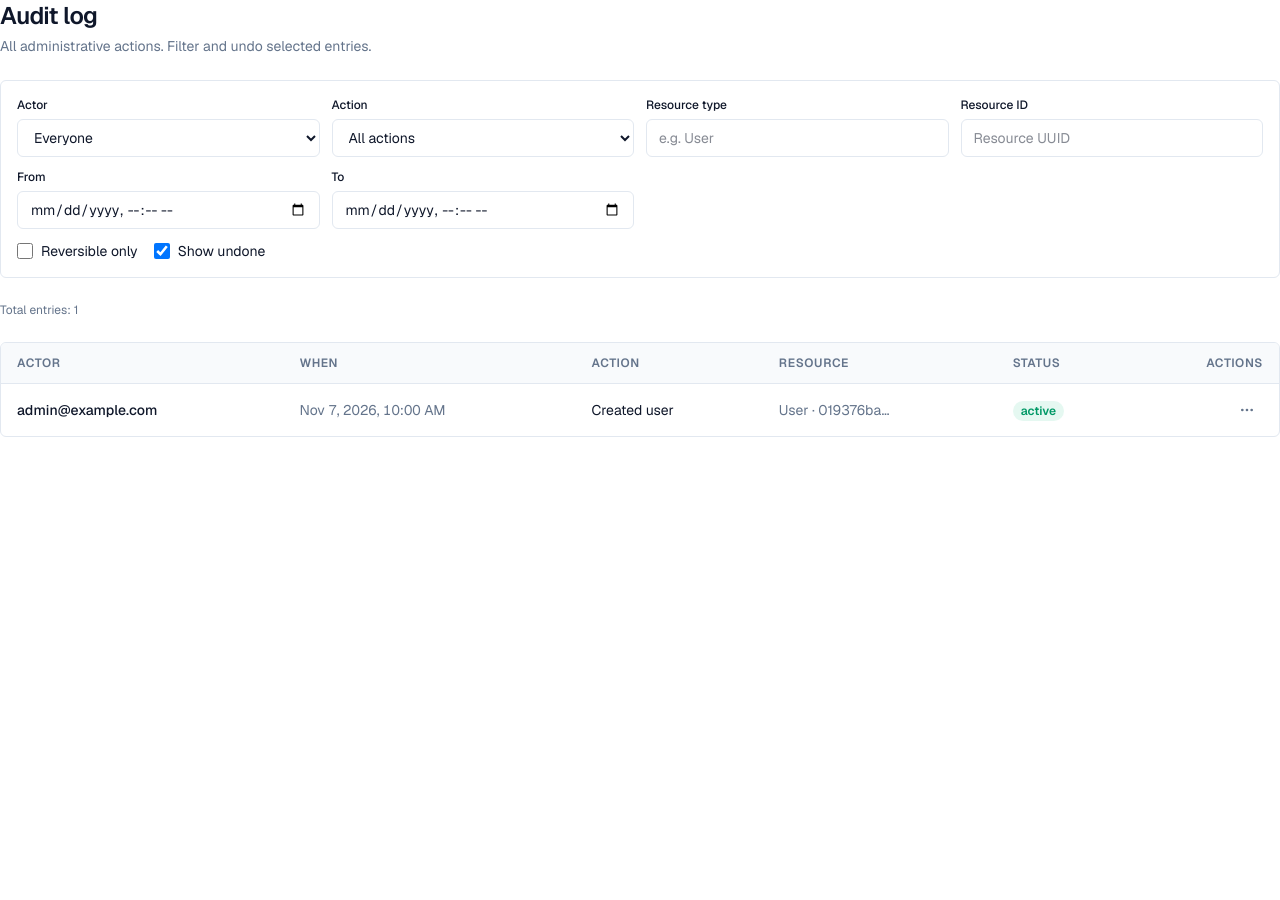
Test case: AdminAuditPage › should POST the undo endpoint on confirm, close the dialog and refetch the list
This screenshot has width=1280, height=900.
Click the button named "row actions" at (1247, 410), box [1231,396,1263,424]
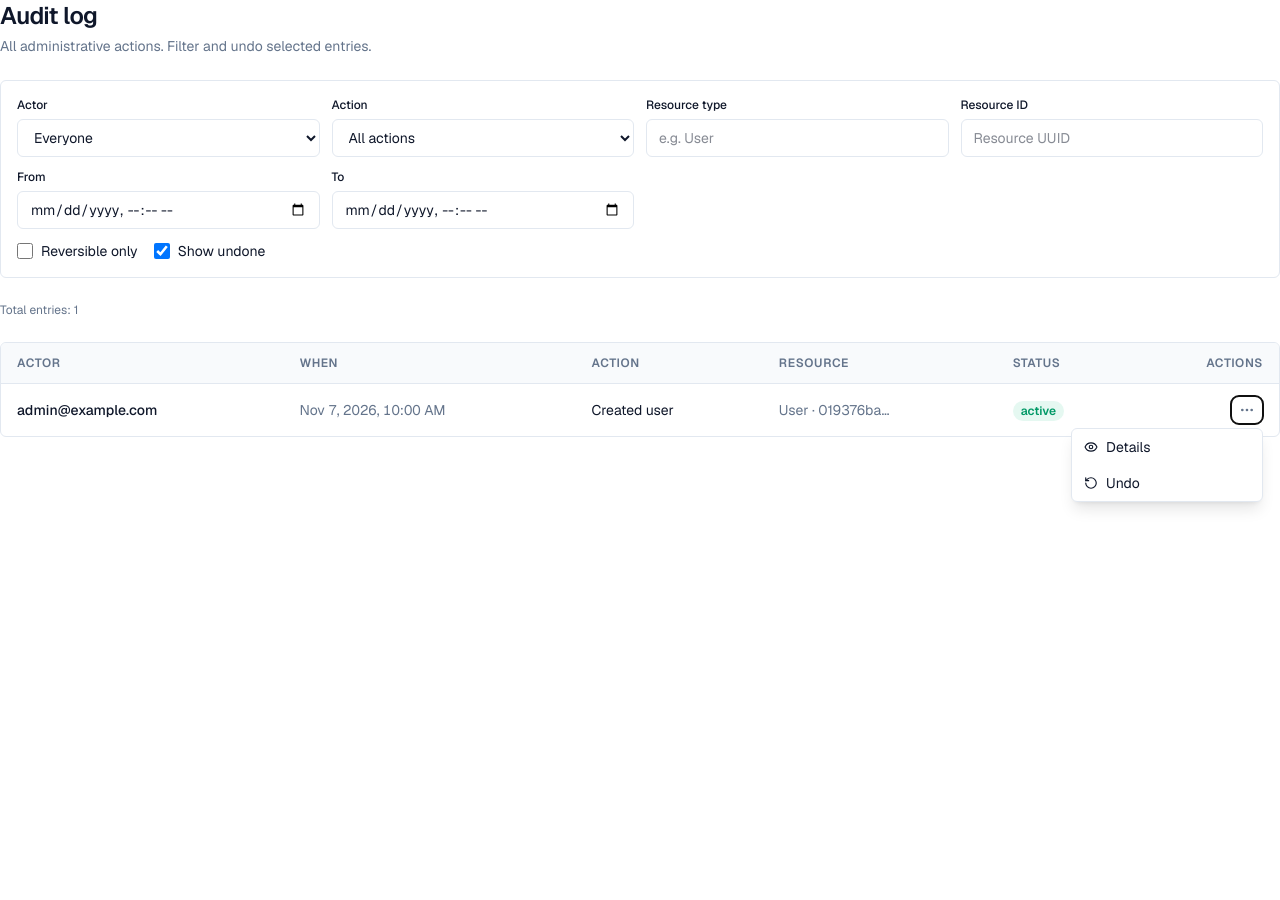
Click the menu item "Undo" at (1167, 483), box [1072,465,1262,501]
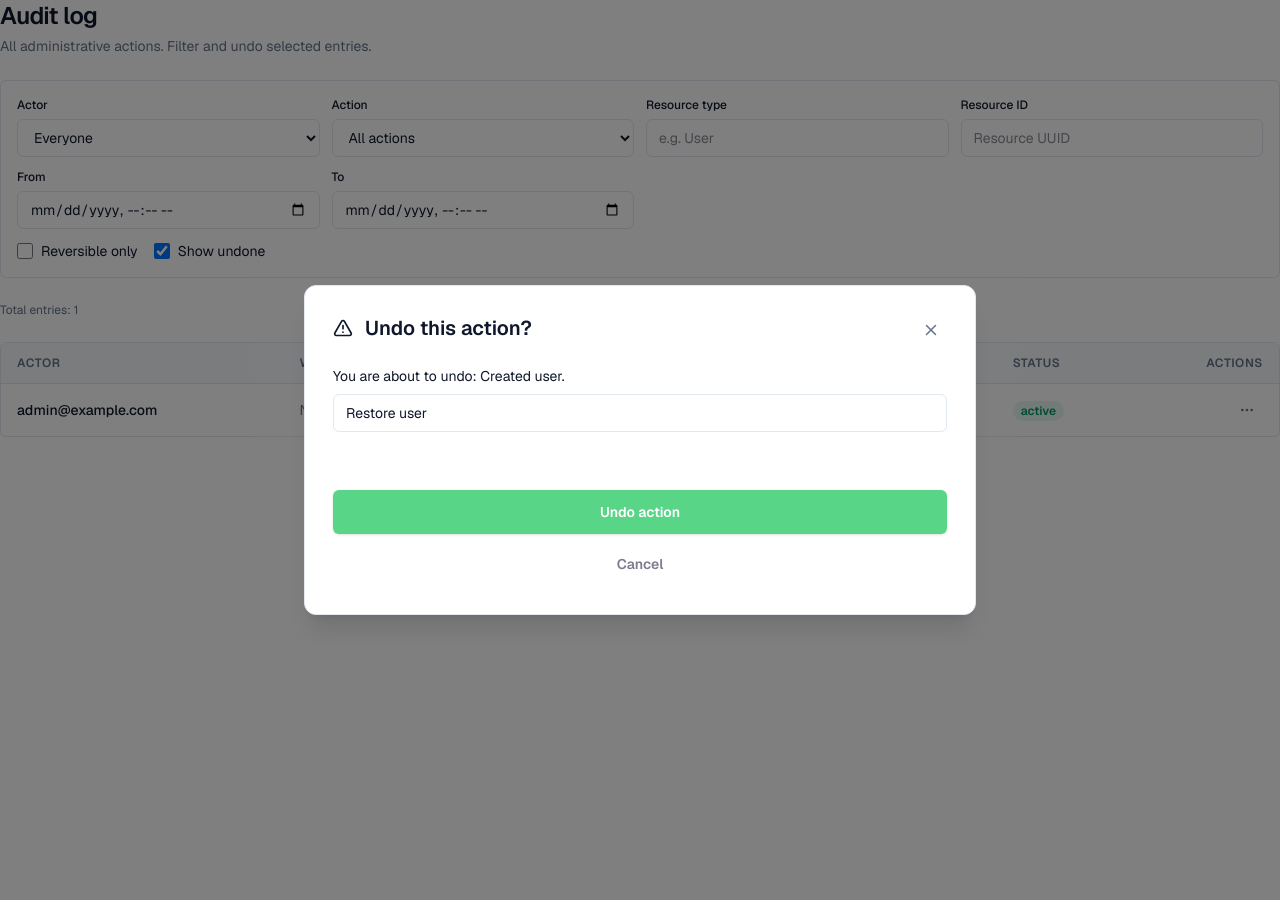
Now the dialog is shown
Click the button "Undo action" at (640, 512), box [333,490,947,534]
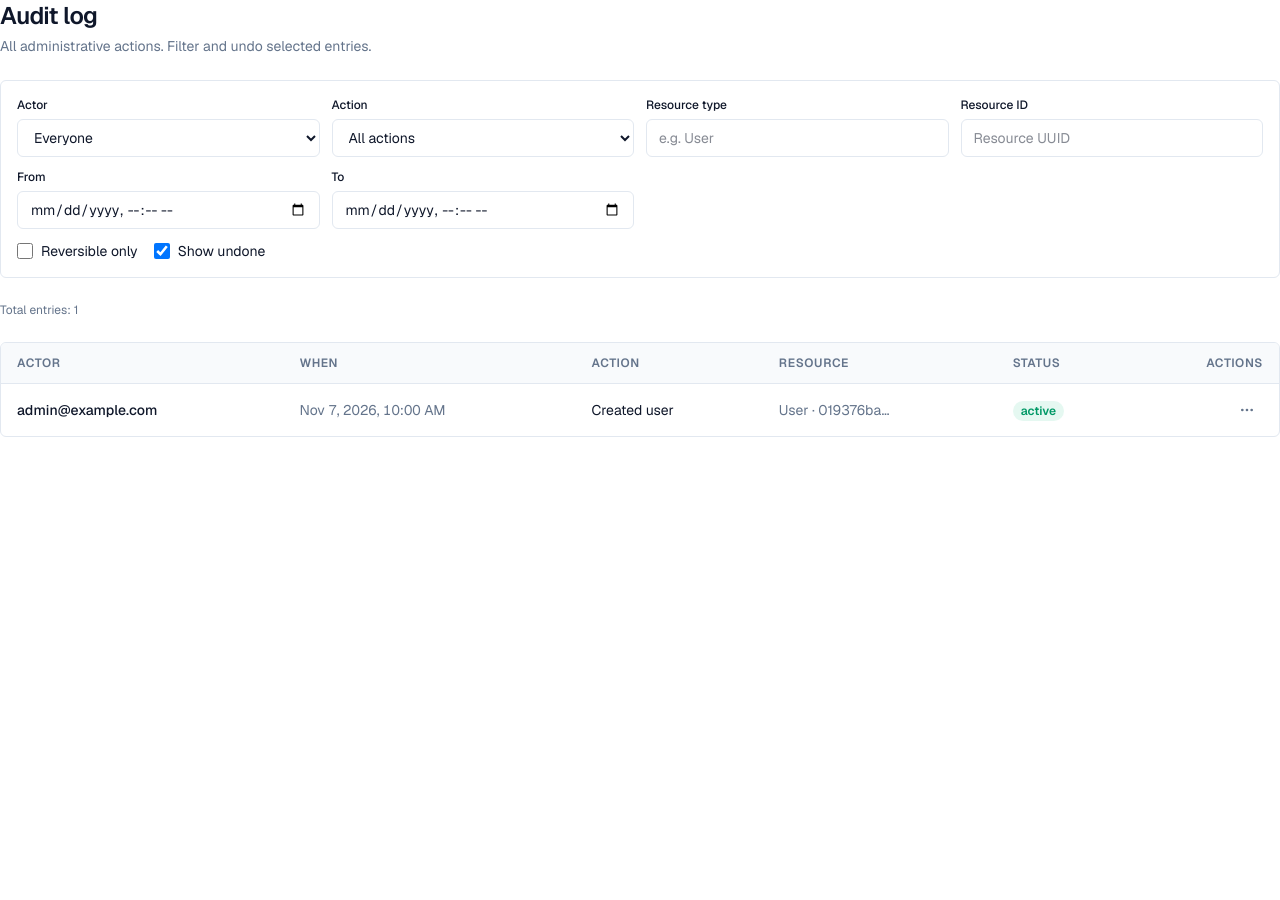
Now the dialog is gone
